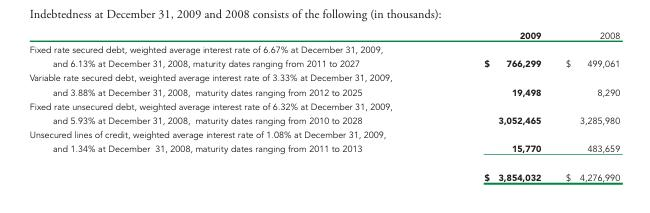table: (28, 29, 619, 182)
table column: (28, 29, 437, 182), (437, 29, 552, 182), (552, 29, 619, 182)
table column header: (28, 29, 619, 42)
table row: (28, 127, 619, 162), (28, 98, 619, 127), (28, 42, 619, 70), (28, 70, 619, 98), (28, 162, 619, 182), (28, 29, 619, 42)
